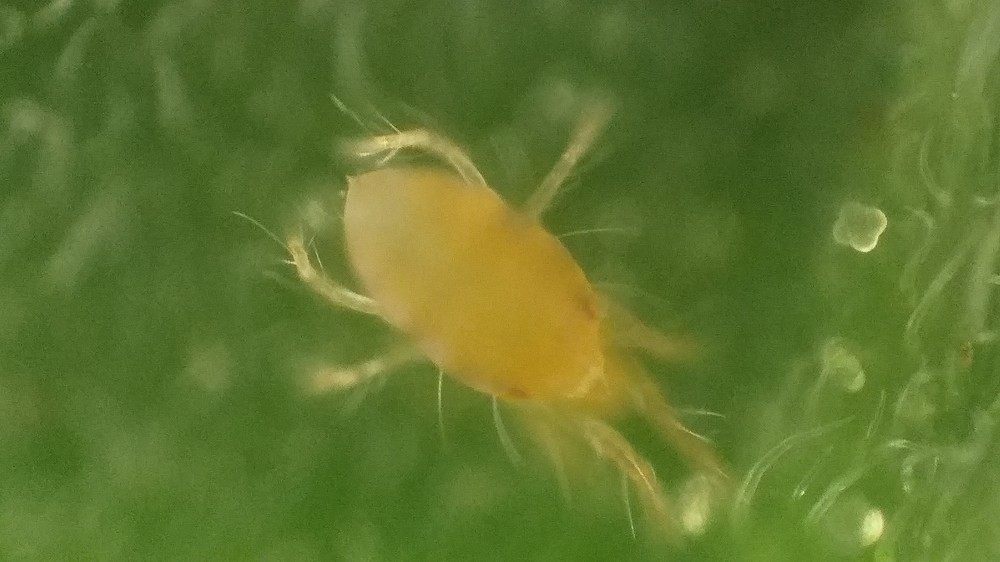Aracnido Rojo: (258, 92, 777, 525)
